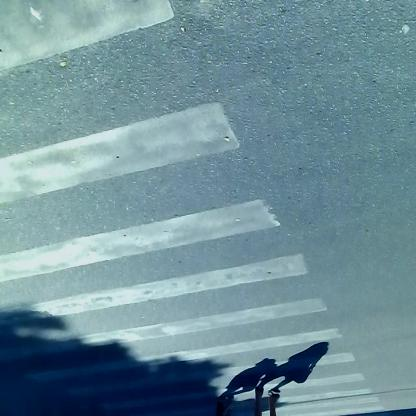crosswalk: (12, 2, 388, 414)
